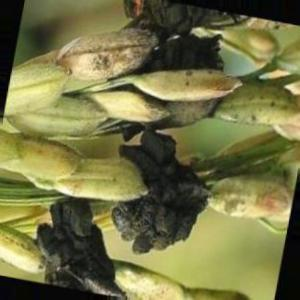Leaf_Scald: (27, 199, 102, 300), (128, 2, 222, 74), (128, 137, 206, 219), (108, 202, 166, 255)
